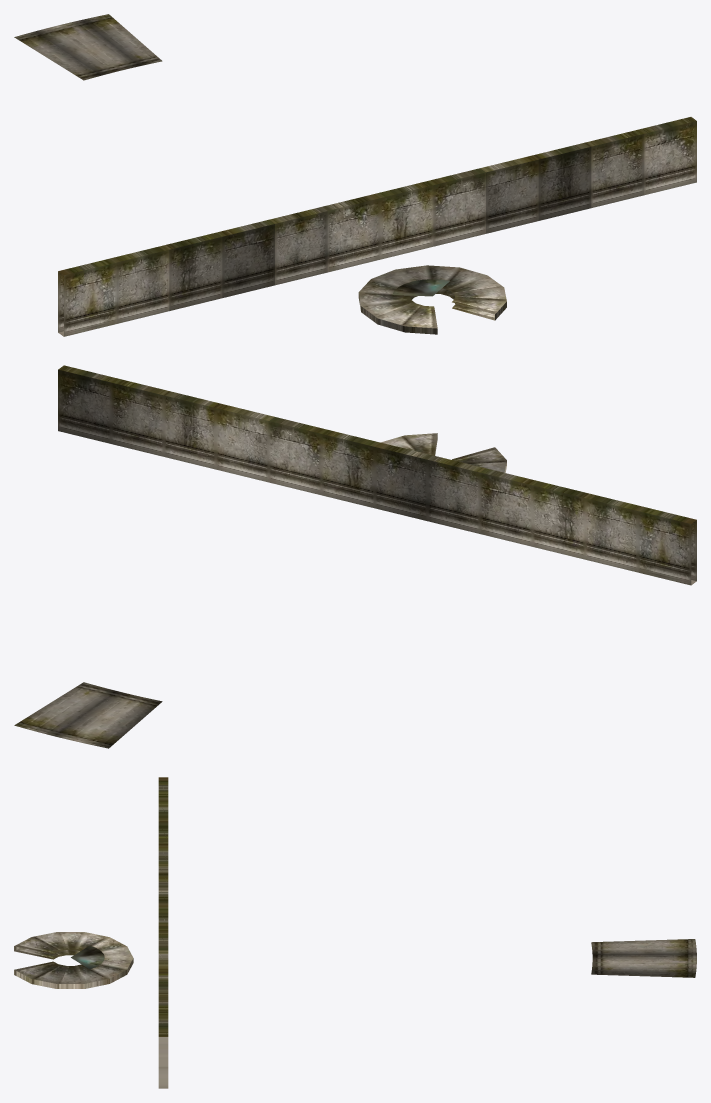
Rendered from fountain_fold.glb.
3 renders of one model, top to bottom at view 1: azimuth 30°, elevation 25°; view 2: azimuth 150°, elevation 25°; view 3: azimuth 270°, elevation 25°, orthographic. The views are drawn at different scales.
Parts seen in each view (by area): view 1: GEO-fountain; view 2: GEO-fountain; view 3: GEO-fountain.
Part boxes in pixels (x1,y1,x2,y2): GEO-fountain: [14, 14, 696, 336]; GEO-fountain: [14, 365, 696, 748]; GEO-fountain: [14, 777, 696, 1088].
Bounding box in the file's own units: 3.77 × 0.379 × 4.19.
Materials: 1 (1 with a texture image).
